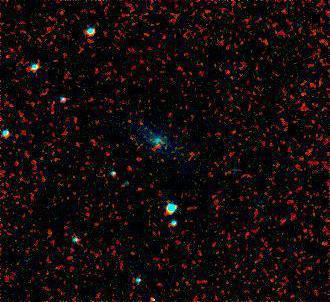star: (150, 134, 180, 164)
